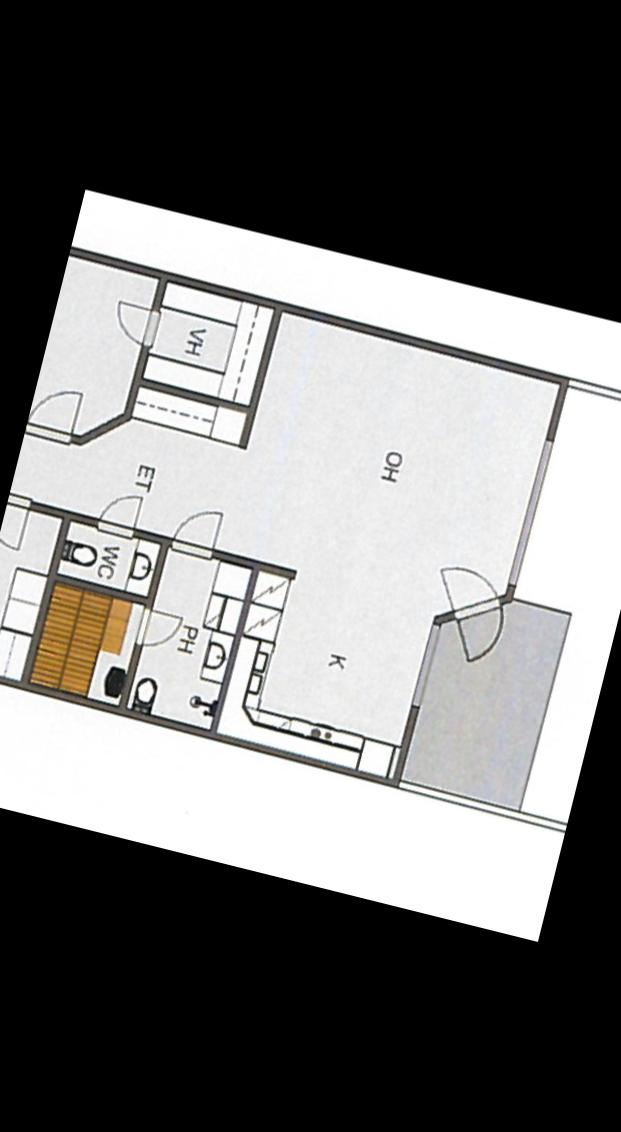door: (436, 590, 508, 671), (427, 556, 509, 626), (22, 380, 84, 450), (98, 295, 164, 354), (168, 503, 226, 566), (127, 598, 184, 654), (96, 481, 146, 542), (0, 489, 38, 552)
window: (498, 428, 564, 594), (400, 616, 452, 720)
